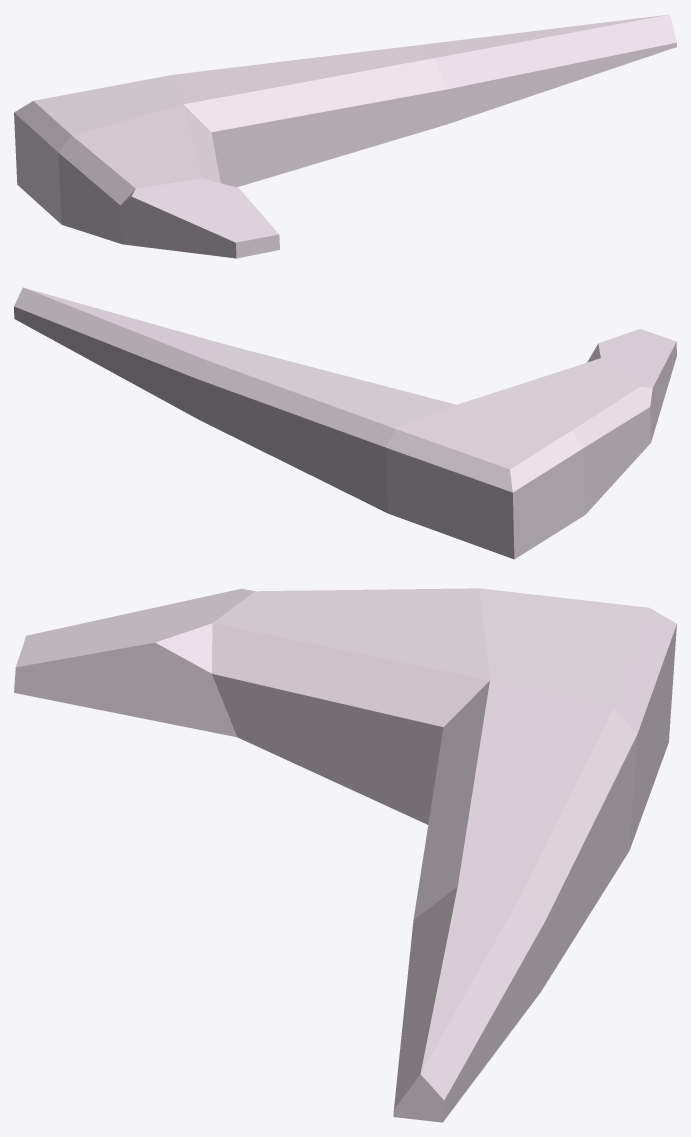
Rendered from third1.fbx.
3 views of the same model, one above another, from view 1: azimuth 30°, elevation 25°; view 2: azimuth 150°, elevation 25°; view 3: azimuth 270°, elevation 25° (orthographic). The views are drawn at different scales.
Visible parts, largest first — view 1: Cube.009; view 2: Cube.009; view 3: Cube.009.
Boxes of the visible parts, x1,y1,x2,y2 form: Cube.009: (14,14,676,258); Cube.009: (14,287,676,559); Cube.009: (14,588,676,1122).
Size of the model in its own units: 115 by 17.39 by 66.04.
